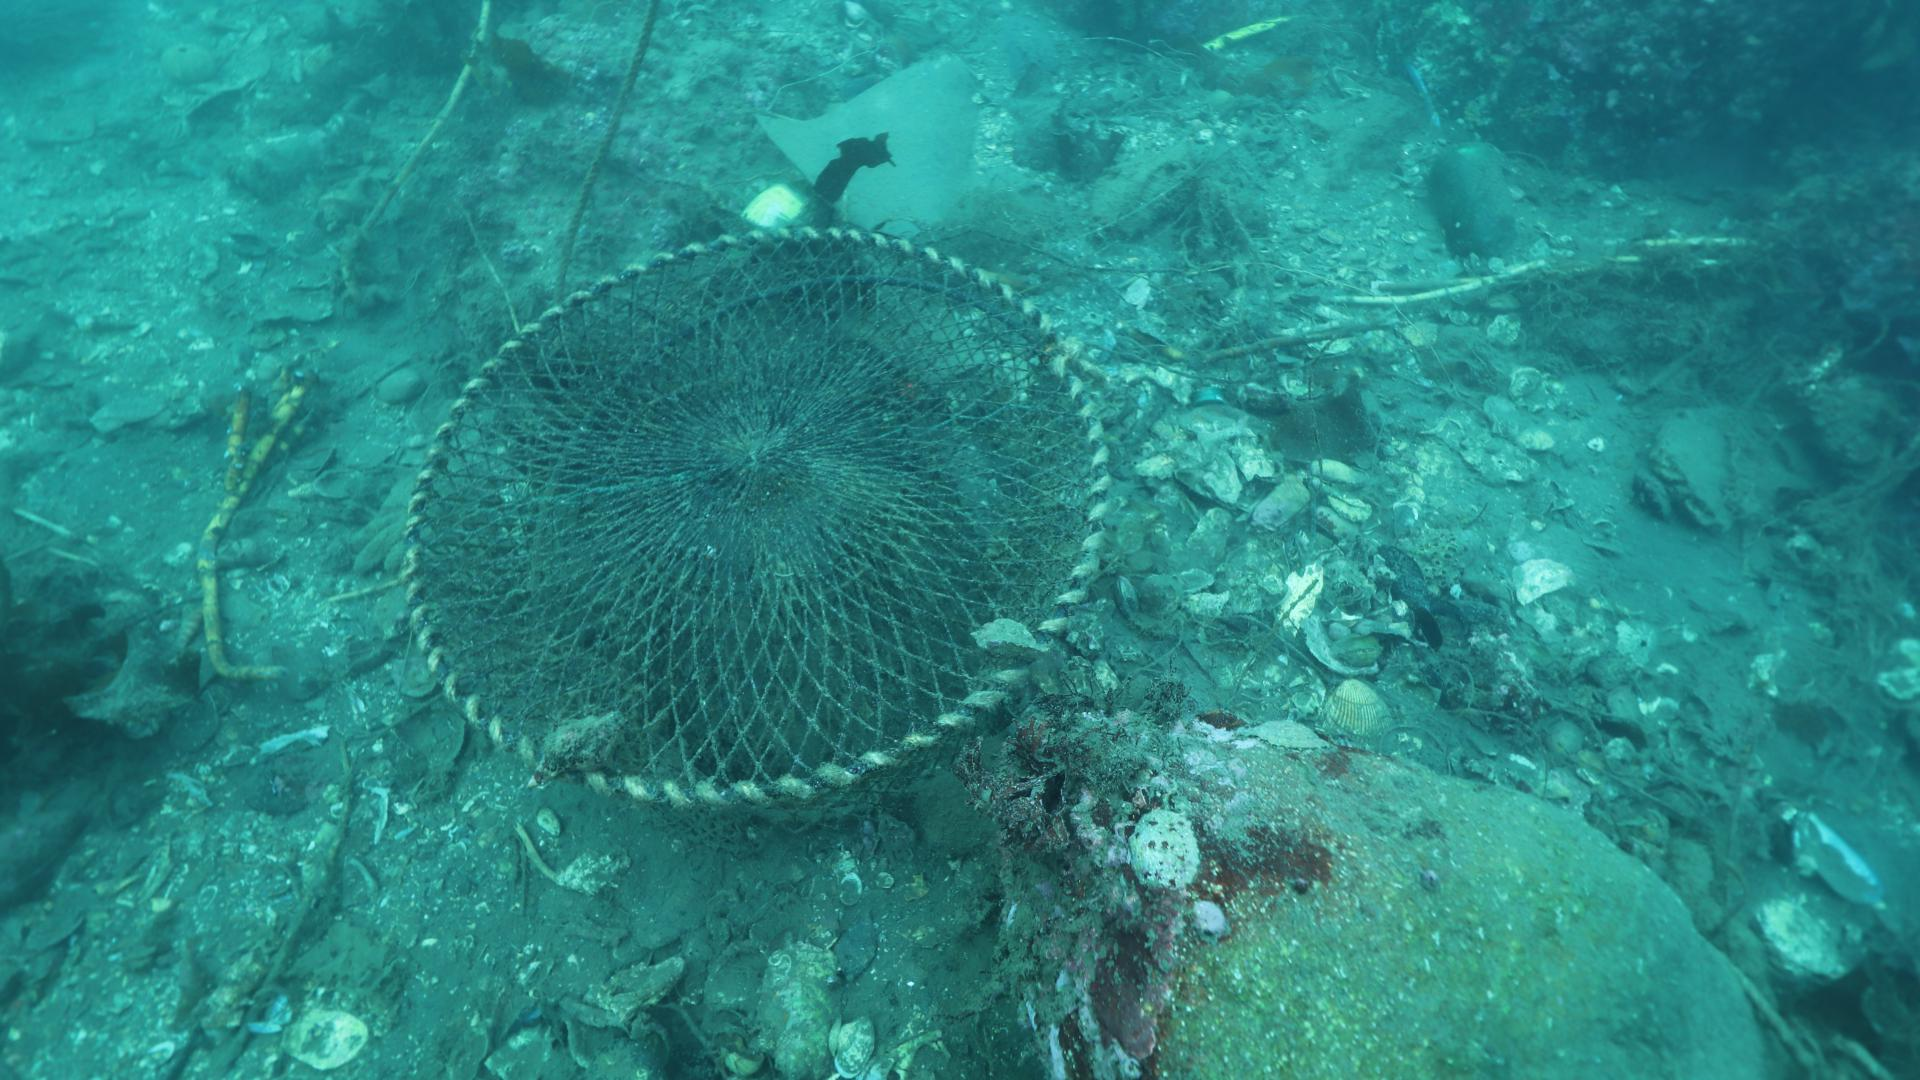circular fish trap: (401, 215, 1118, 855)
